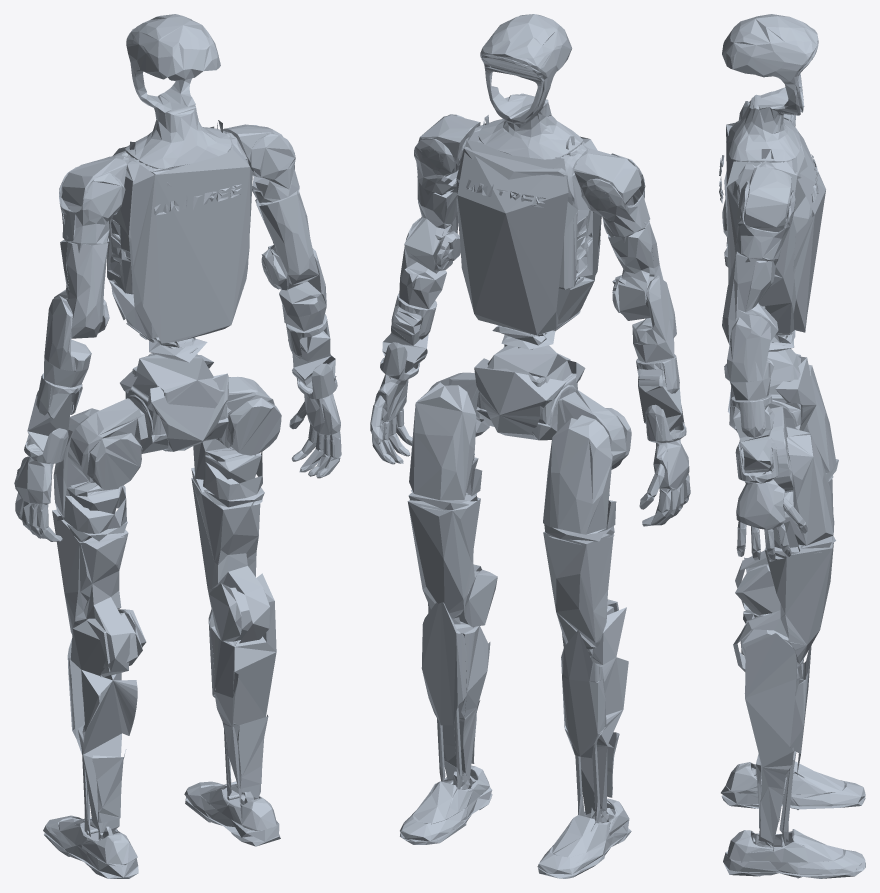
The model's file is you.glb.
3 renders of one model, left to right at view 1: azimuth 30°, elevation 25°; view 2: azimuth 150°, elevation 25°; view 3: azimuth 270°, elevation 25°, orthographic. The views are drawn at different scales.
Visible parts, largest first — view 1: body16_16, body16_18, body5_5, body10_10, body11_11, body4_4, body2_2, body1_0, body3_3, body26_29, body19_21, body13_13 (+19 smaller); view 2: body16_16, body16_18, body5_5, body11_11, body10_10, body3_3, body9_9, body4_4, body1_1, body13_13, body7_7, body26_29 (+19 smaller); view 3: body16_18, body11_11, body16_16, body10_10, body13_13, body9_9, body7_7, body30_34, body27_30, body26_29, body24_27, body4_4 (+9 smaller).
Boxes of the visible parts, box(x1,y1,x2,y2) form: body16_16: box(107, 120, 252, 343); body16_18: box(125, 14, 231, 168); body5_5: box(67, 620, 137, 836); body10_10: box(191, 467, 269, 643); body11_11: box(208, 573, 276, 804); body4_4: box(52, 509, 146, 677); body2_2: box(68, 398, 148, 489); body1_0: box(125, 354, 228, 453); body3_3: box(53, 408, 126, 533); body26_29: box(255, 191, 318, 290); body19_21: box(54, 239, 109, 338); body13_13: box(184, 781, 280, 846); body16_16: box(456, 115, 601, 335); body16_18: box(478, 14, 582, 159); body5_5: box(561, 607, 628, 823); body11_11: box(421, 602, 490, 789); body10_10: box(407, 492, 497, 627); body3_3: box(543, 415, 616, 534); body9_9: box(409, 382, 482, 500); body4_4: box(543, 524, 618, 657); body1_1: box(474, 344, 585, 439); body13_13: box(400, 765, 492, 844); body7_7: box(537, 798, 631, 878); body26_29: box(404, 180, 460, 273); body16_18: box(722, 14, 818, 162); body11_11: box(744, 633, 811, 844); body16_16: box(724, 119, 825, 335); body10_10: box(733, 536, 835, 671); body13_13: box(723, 829, 865, 878); body9_9: box(773, 426, 834, 548); body7_7: box(721, 761, 865, 809); body30_34: box(736, 479, 807, 561); body27_30: box(724, 314, 774, 400); body26_29: box(722, 251, 778, 344); body24_27: box(744, 167, 791, 231); body4_4: box(735, 459, 838, 615).
Bounding box in the file's own units: 0.5224 × 1.32 × 0.216.
